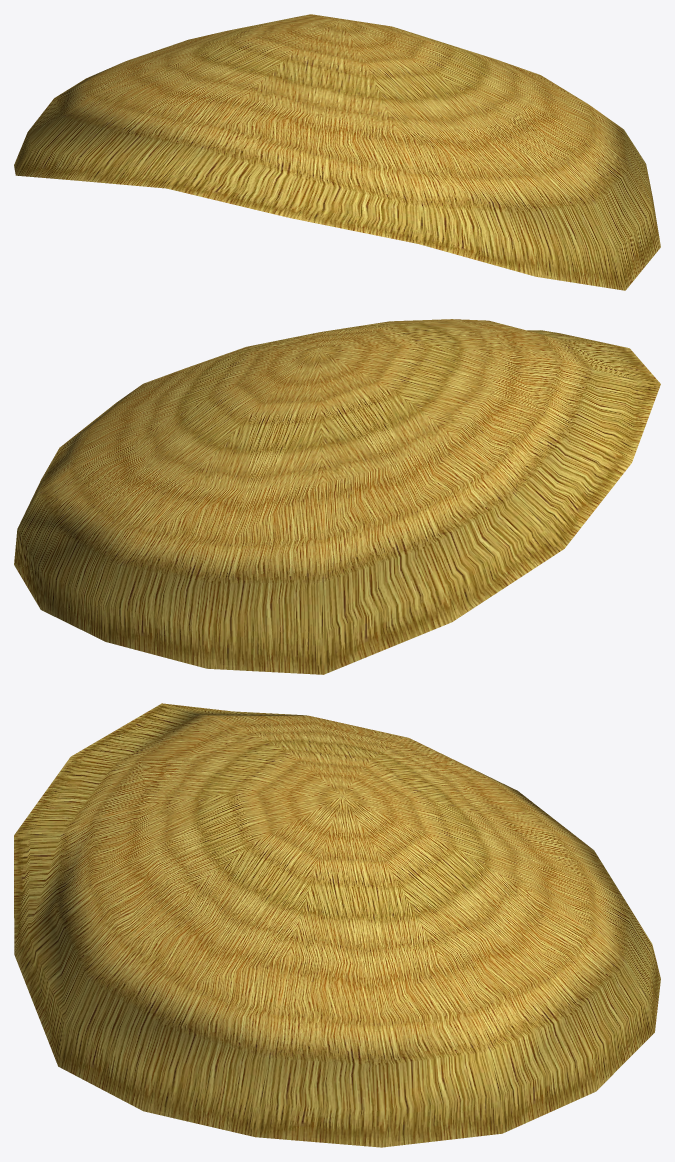
File: HTOWN01_HANNA-ROOF01.fbx
The picture shows the model from 3 angles, top to bottom: view 1: azimuth 30°, elevation 25°; view 2: azimuth 150°, elevation 25°; view 3: azimuth 270°, elevation 25°; orthographic projection. The views are drawn at different scales.
Parts seen in each view (by area): view 1: HTOWN01_HANNA-ROOF01; view 2: HTOWN01_HANNA-ROOF01; view 3: HTOWN01_HANNA-ROOF01.
Boxes of the visible parts, left/top/right/bottom form: HTOWN01_HANNA-ROOF01: left=14, top=14, right=660, bottom=290; HTOWN01_HANNA-ROOF01: left=14, top=319, right=660, bottom=674; HTOWN01_HANNA-ROOF01: left=14, top=703, right=660, bottom=1147.
Bounding box in the file's own units: 76501 × 29225 × 75494.
Materials: 2 (2 with a texture image).
